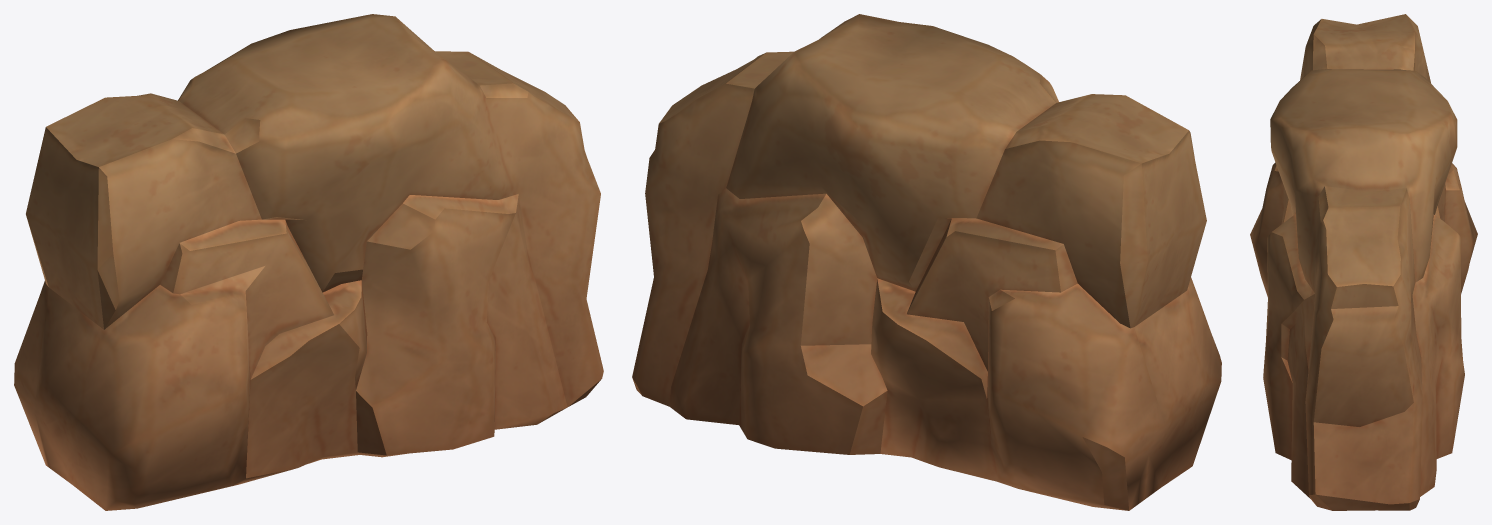
The model's file is Prop_Soil_1.fbx.
3 renders of one model, left to right at view 1: azimuth 30°, elevation 25°; view 2: azimuth 150°, elevation 25°; view 3: azimuth 270°, elevation 25°, orthographic. The views are drawn at different scales.
Visible parts, largest first — view 1: brickbox; view 2: brickbox; view 3: brickbox.
Part boxes in pixels (box(x1,y1,x2,y2)): brickbox: box(14, 14, 603, 510); brickbox: box(632, 14, 1221, 510); brickbox: box(1250, 14, 1477, 510).
Size of the model in its own units: 358 by 248 by 160.
1 material, 1 textured.
